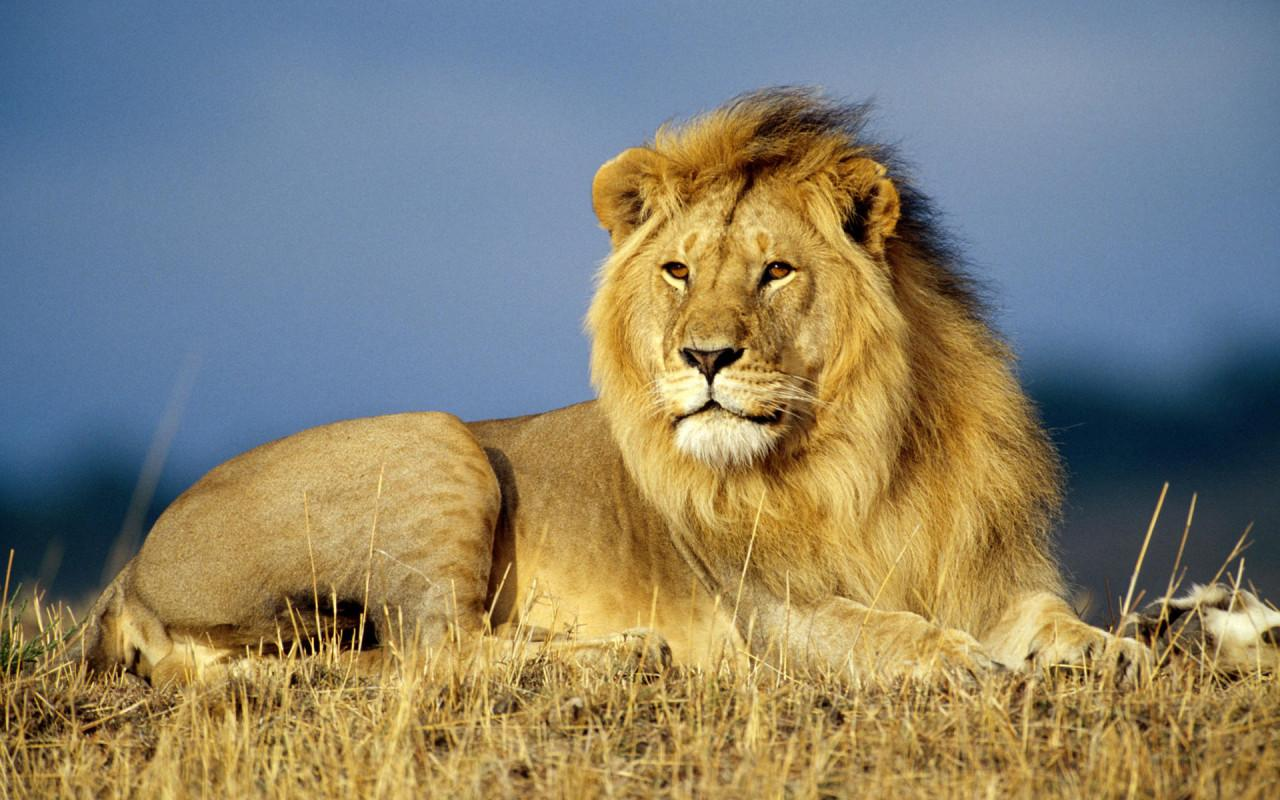lions: (40, 49, 1280, 700)
